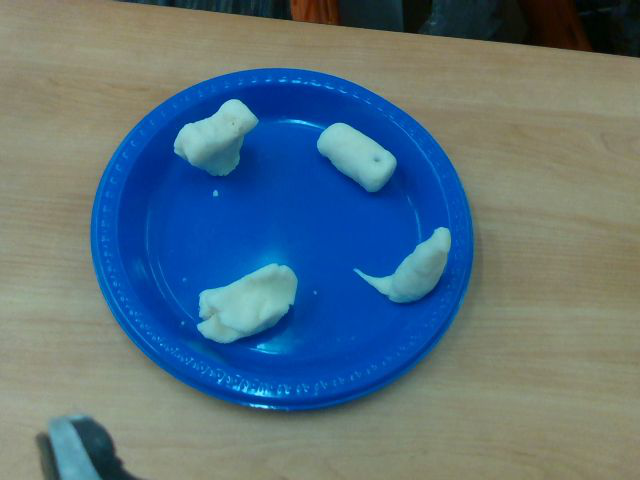mashed_potato: (197, 264, 298, 345), (354, 227, 451, 303), (172, 98, 258, 177), (317, 123, 397, 193)
